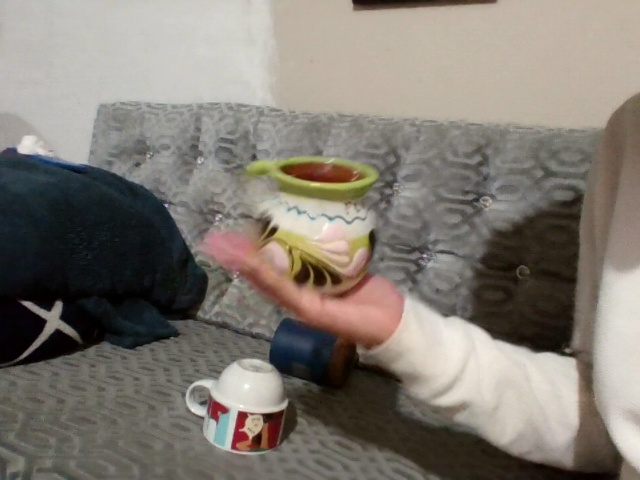botella: (229, 132, 386, 330), (182, 355, 329, 480)
